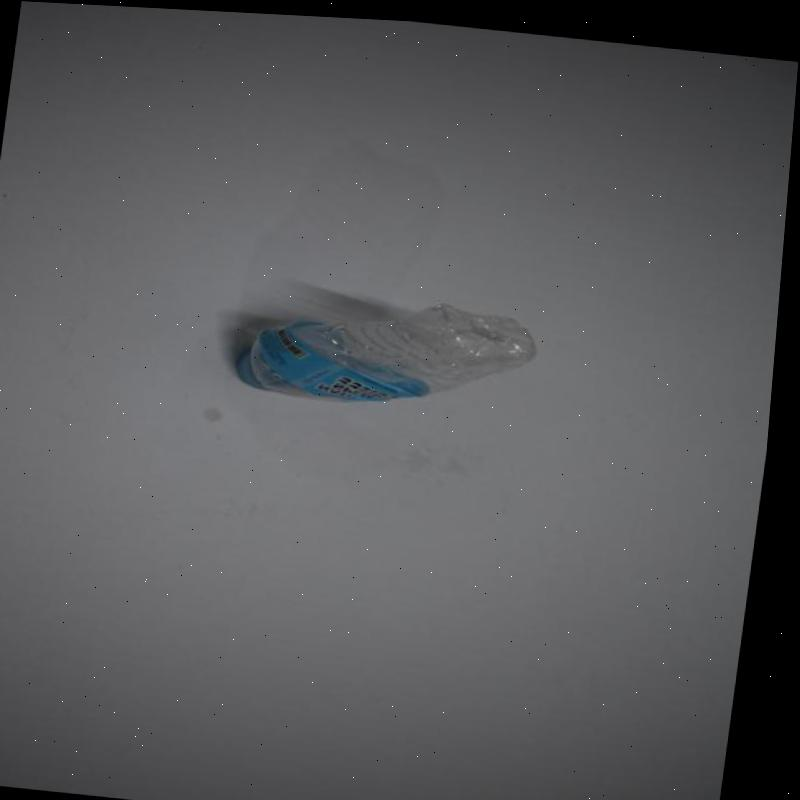botella: (228, 277, 546, 416)
